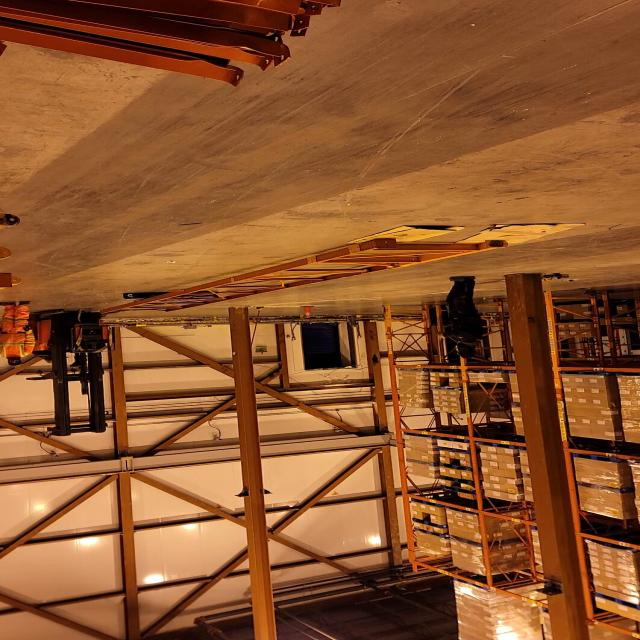forklift: (19, 307, 124, 433)
human: (433, 274, 491, 360), (0, 301, 37, 369), (33, 350, 65, 367)
objectofinterest: (90, 238, 510, 316), (451, 221, 586, 258), (345, 223, 467, 252), (116, 288, 166, 304)
